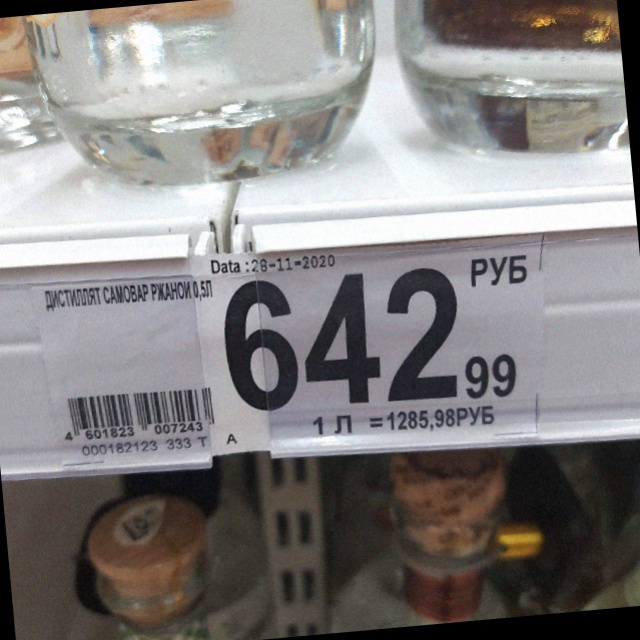barcode: (62, 384, 215, 442)
name: (43, 276, 214, 312)
price: (222, 268, 517, 415)
price_tag: (32, 234, 547, 467)
